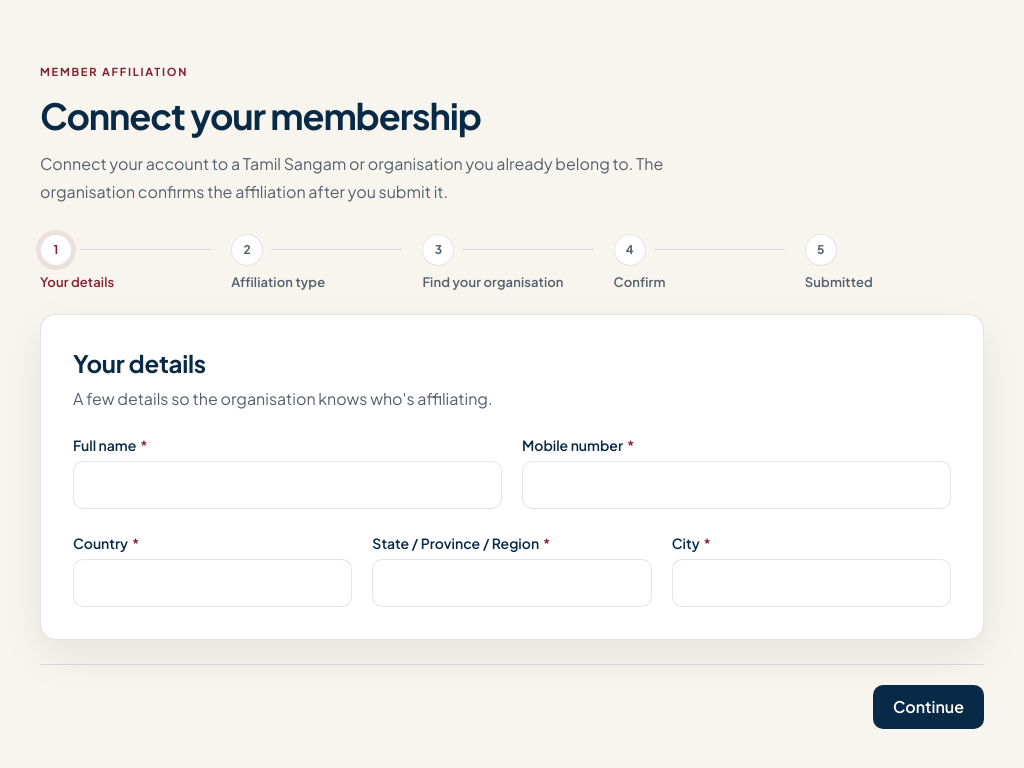
MemberRegistration — the full affiliation-claim flow › Step 1 pre-fills the profile from the account, and blocks Continue until required fields are valid
Expected: the heading "Your details" is shown, [73,348,206,378]
Click the button "Continue": (928, 707) [873,685,984,729]
(page scrolled)
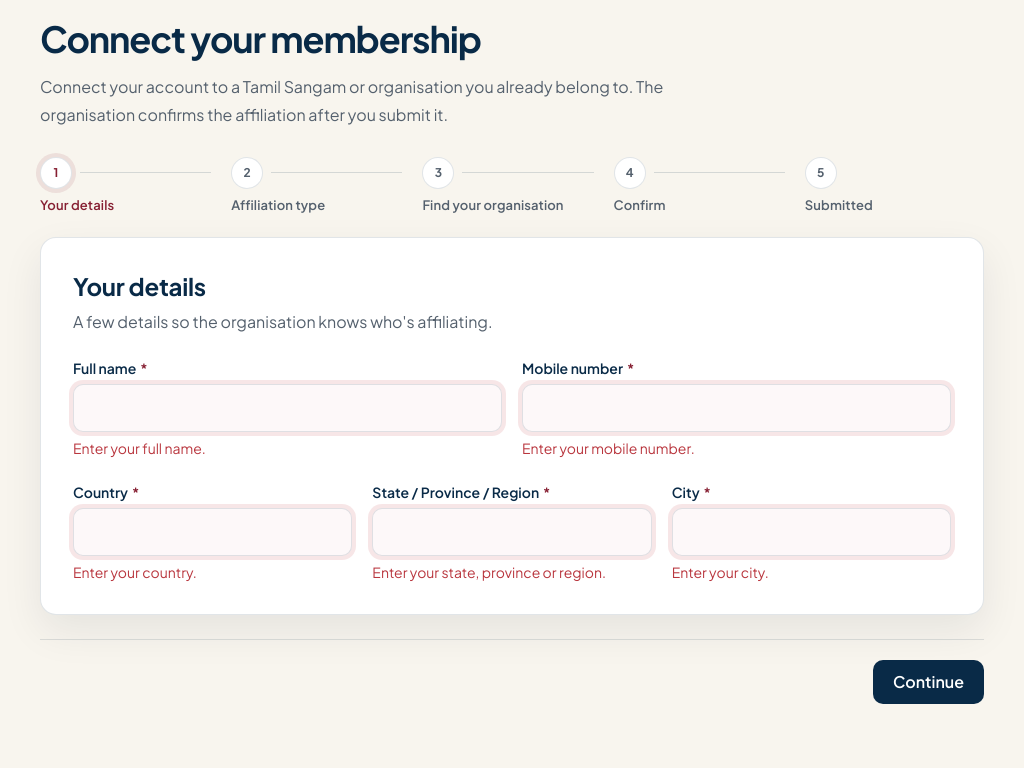
Expected: the text "Enter your full name." is shown, [73,439,206,457]
